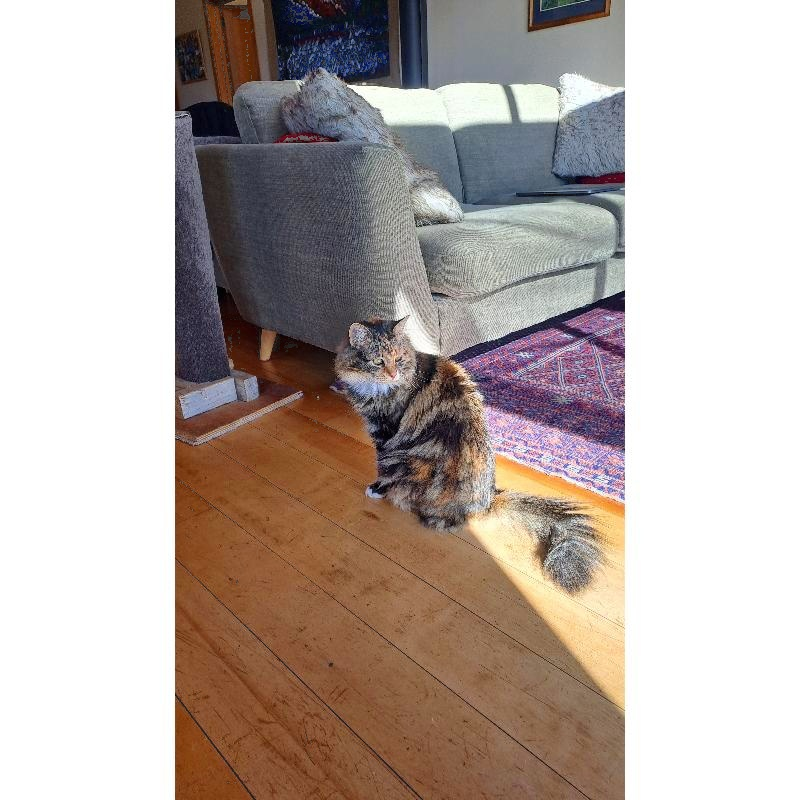red: (334, 316, 498, 532)
